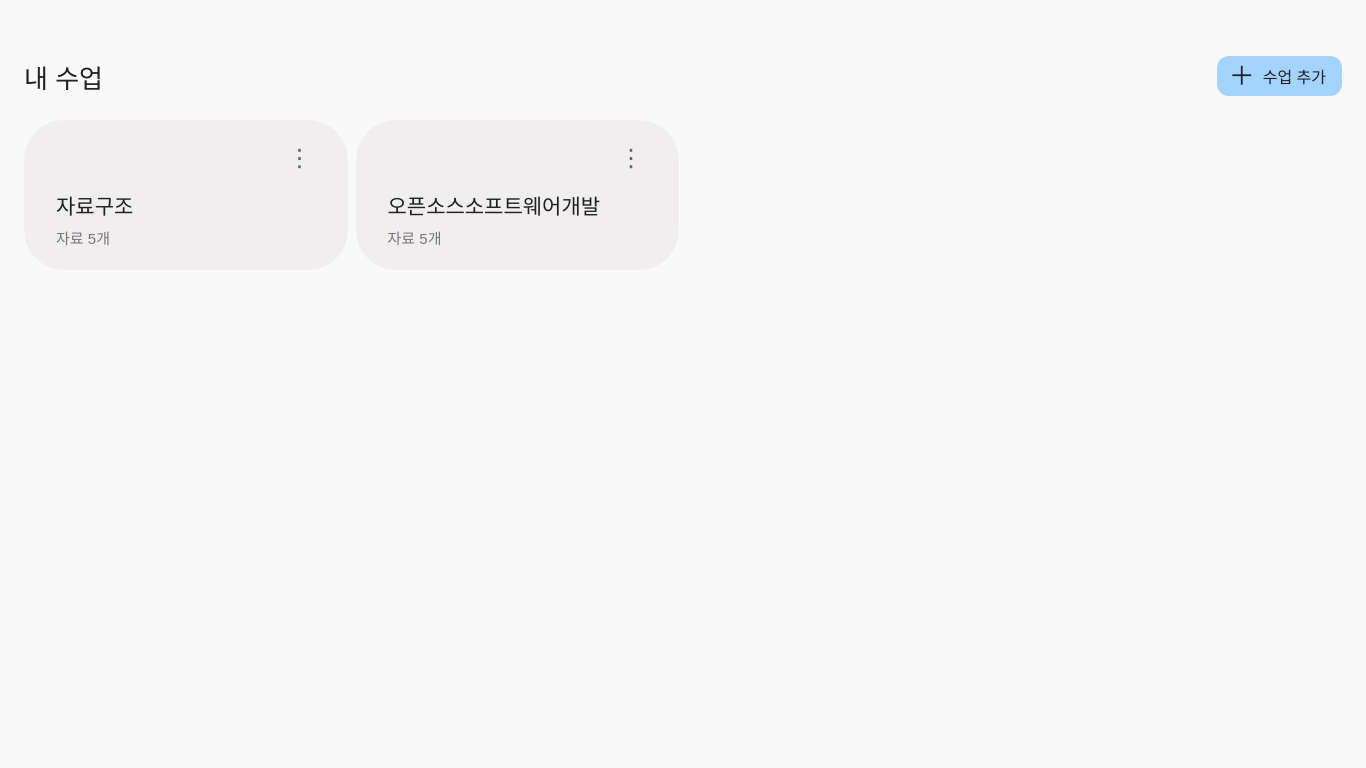
Scenario: shows one subject menu at a time and closes it when clicking outside
The width and height of the screenshot is (1366, 768).
What coordinates should you click on to do the following:
click the button named "자료구조 메뉴"
I would click on:
 (300, 158)
Its box is [284,140,316,176].
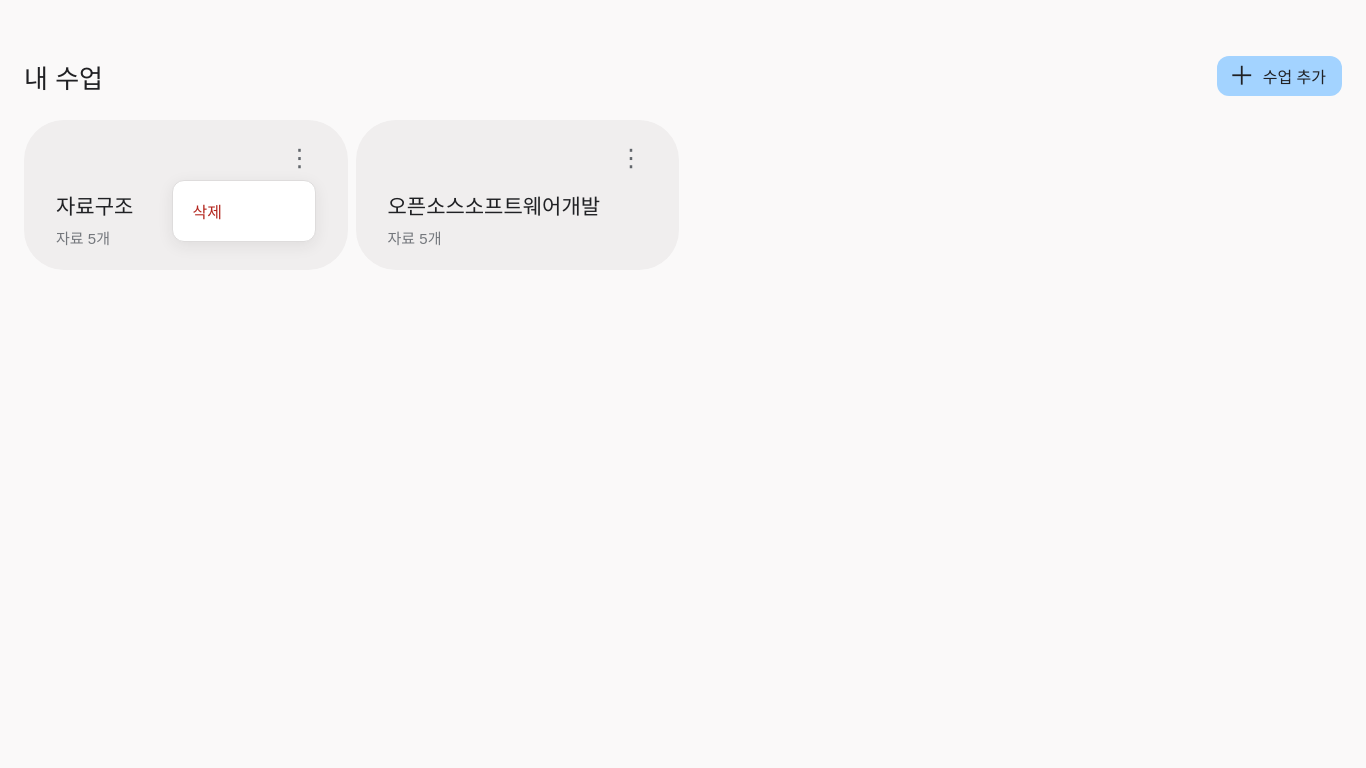
Now the number of dialogs is 1, box [172,180,316,242]
Now the button "삭제" is shown, box [180,189,306,233]
What coordinates should you click on to do the following:
click the button named "오픈소스소프트웨어개발 메뉴"
I would click on:
 (631, 158)
Its box is [615,140,647,176].
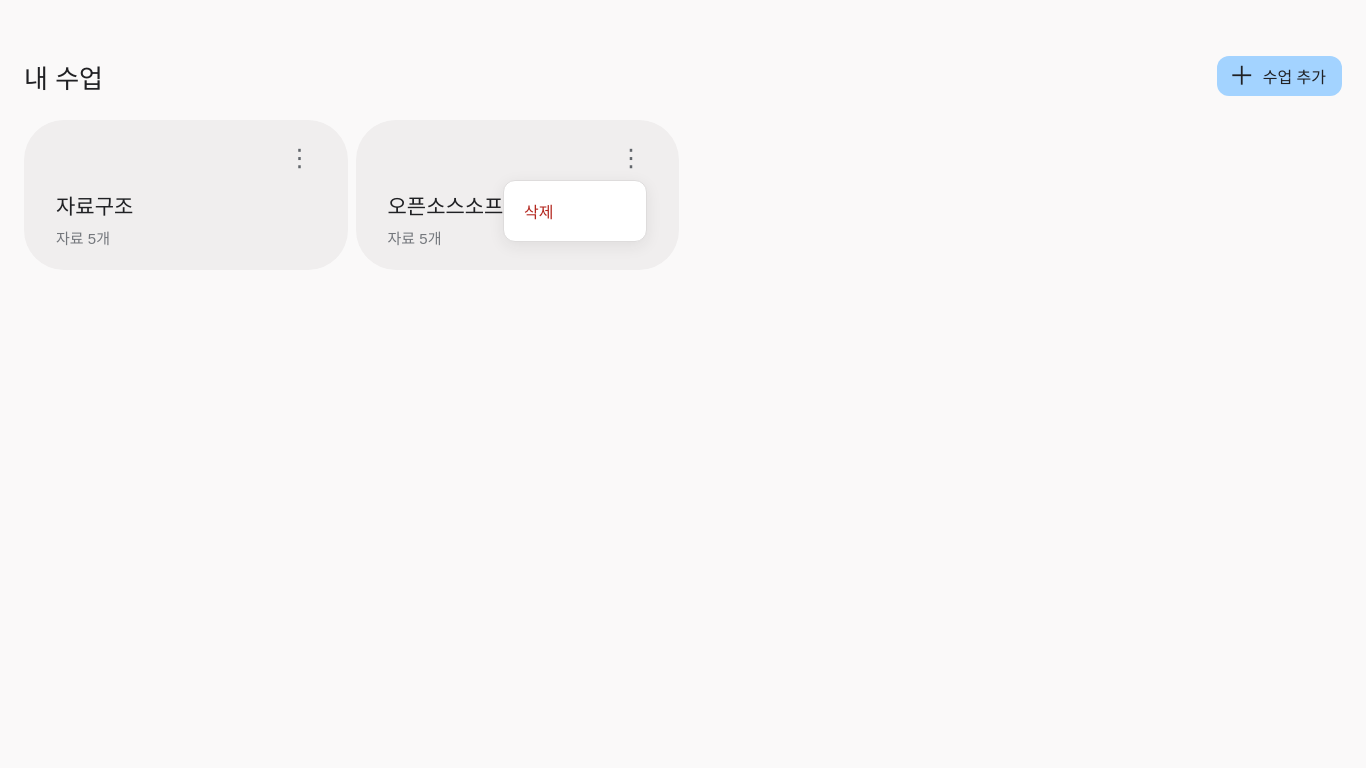
Now the number of dialogs is 1, box [503,180,647,242]
What coordinates should you click on to do the following:
click the element showing "내 수업 ＋ 수업 추가 ⋮ 자료구조 자료 5개 ⋮ 삭제 오픈소스소프트웨어개발 자료 5개"
I would click on:
 (683, 163)
Its box is [0,0,1365,326].
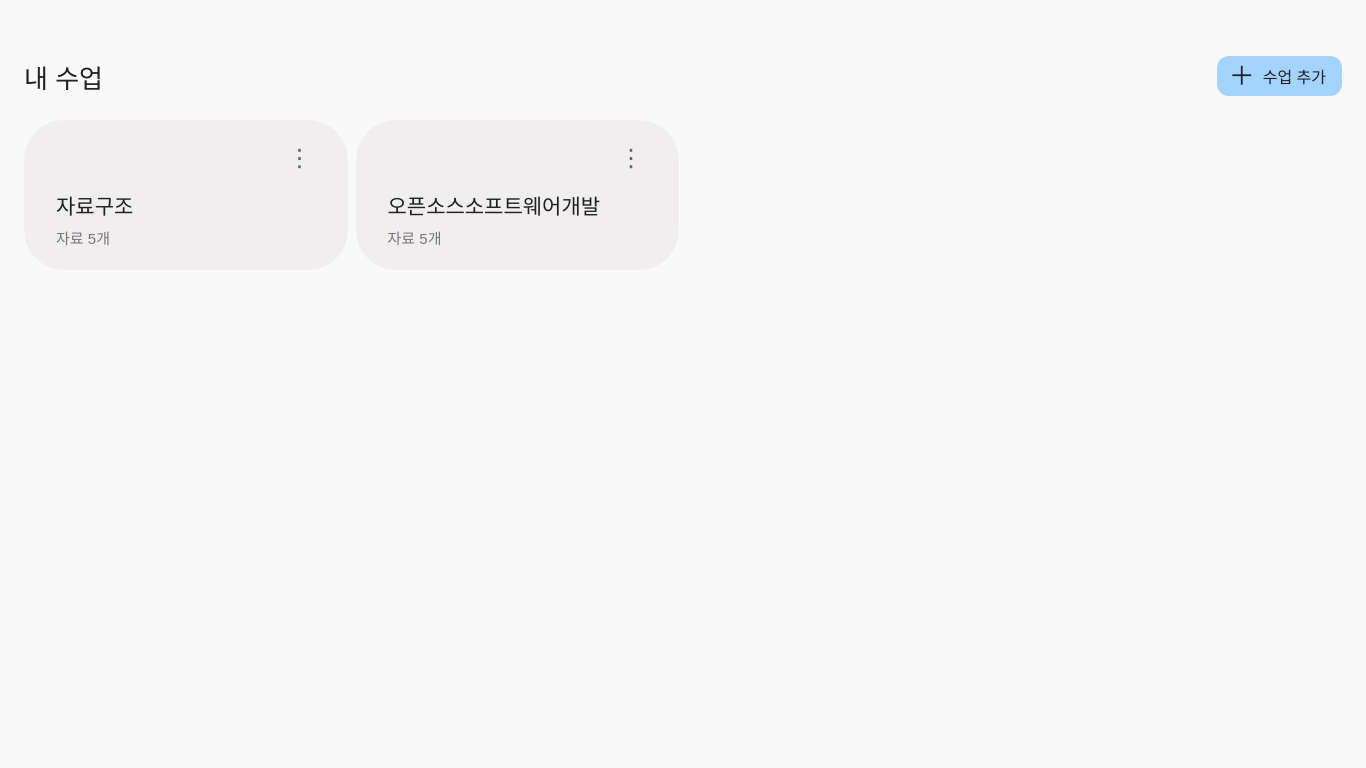
Now the dialog is gone
